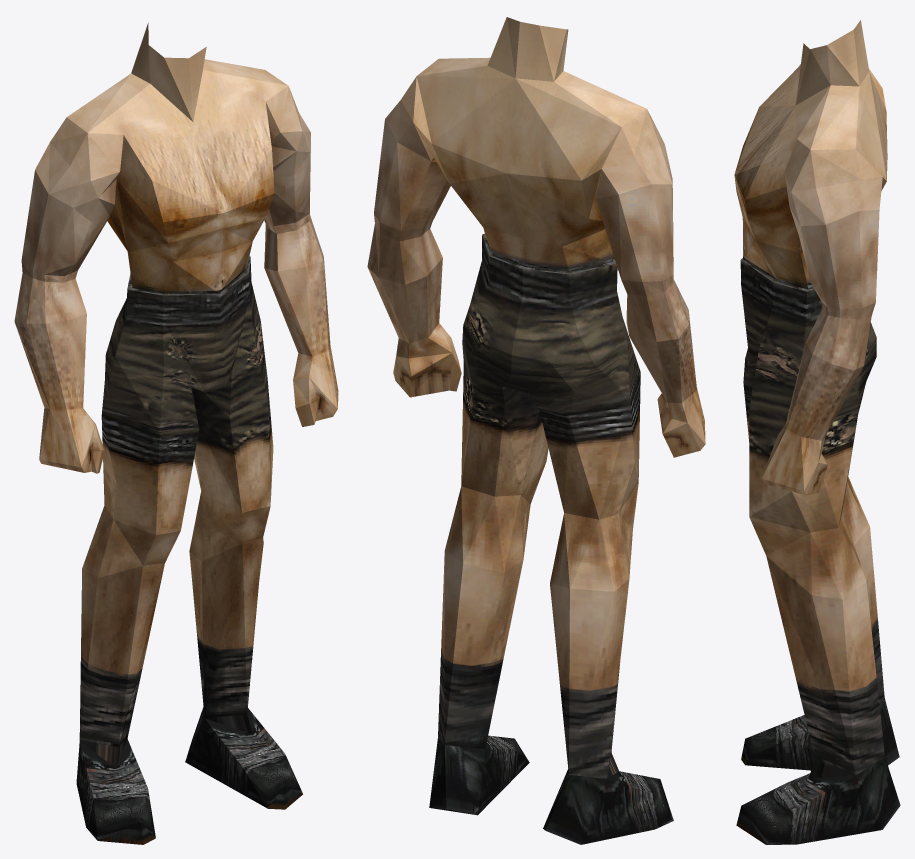
File: HUM_BODY_NAKED0-5Mrgi6zX.glb
3 renders of one model, left to right at view 1: azimuth 30°, elevation 25°; view 2: azimuth 150°, elevation 25°; view 3: azimuth 270°, elevation 25°, orthographic. The views are drawn at different scales.
Visible parts, largest first — view 1: zm_Skin; view 2: zm_Skin; view 3: zm_Skin.
Part boxes in pixels (x1,y1,x2,y2): zm_Skin: [14, 23, 338, 844]; zm_Skin: [367, 17, 705, 844]; zm_Skin: [734, 20, 900, 844].
Size of the model in its own units: 0.6879 by 1.69 by 0.3269.
Materials: 1 (1 with a texture image).
